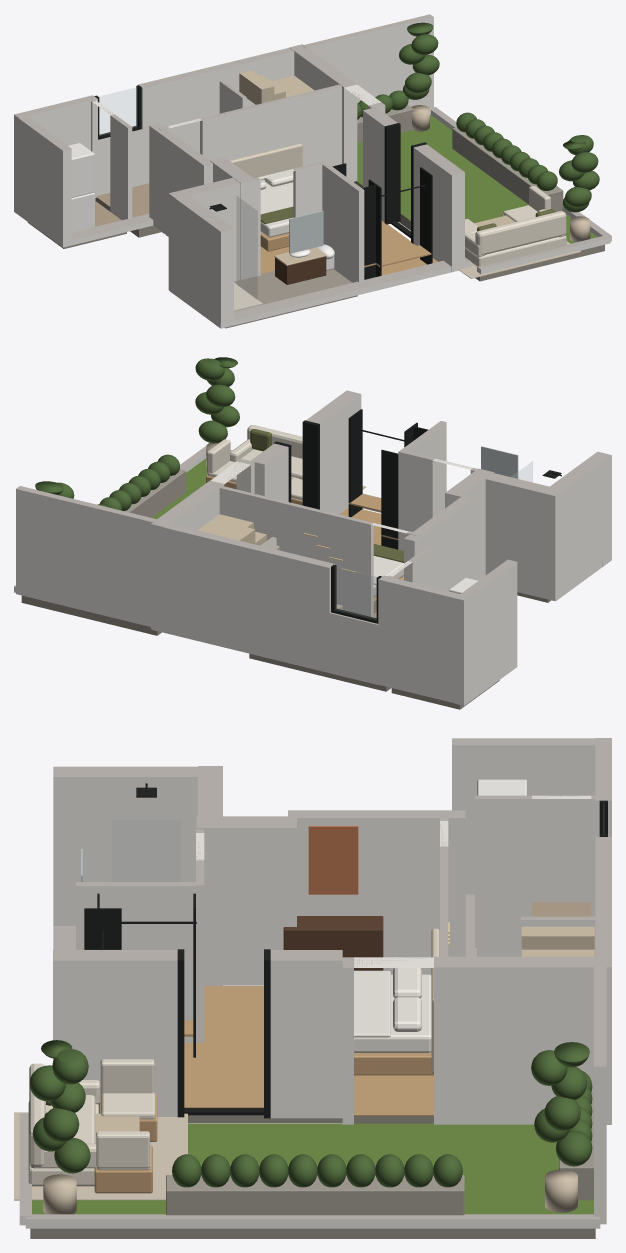
Rendered from apt-3-2.glb.
3 renders of one model, top to bottom at view 1: azimuth 30°, elevation 25°; view 2: azimuth 150°, elevation 25°; view 3: azimuth 270°, elevation 25°, orthographic. The views are drawn at different scales.
Parts seen in each view (by area): view 1: Wall master-N.001, Wall lo-N.001, Wall bathlo-W, Wall svc-W, Parapet 3, Floor | garden, Wall lo-E-S.001, Wall walkin-W, Wall master-W, Wall lo-S, Wall bathlo-NW, Wall lo-E-N (+47 smaller); view 2: Wall lo-N.001, Parapet 3, Wall lo-N, Wall master-N.001, Wall bathlo-NW, Wall svc-W, Wall bathlo-W, Wall master-W, Wall lo-E-S.001, lo-N window 0 | sill wall, Wall bathlo-N.001, Wall lo-E-N (+21 smaller); view 3: Wall lo-E-N, Floor | garden, Wall bathlo-W, Wall master-W, Wall svc-W, Wall lo-E-S.001, Wall master-SW, Wall lo-E-S, Floor | master, garden bamboo planter | box, Wall svc-E.001, Parapet 4 (+60 smaller).
Boxes of the visible parts, left/top/right/bottom form: Wall master-N.001: left=200, top=84, right=341, bottom=166; Wall lo-N.001: left=137, top=47, right=294, bottom=184; Wall bathlo-W: left=170, top=196, right=233, bottom=328; Wall svc-W: left=14, top=115, right=71, bottom=247; Parapet 3: left=303, top=14, right=433, bottom=114; Floor | garden: left=356, top=114, right=597, bottom=243; Wall lo-E-S.001: left=413, top=144, right=464, bottom=272; Wall walkin-W: left=322, top=163, right=364, bottom=282; Wall master-W: left=149, top=123, right=212, bottom=236; Wall lo-S: left=212, top=257, right=472, bottom=328; Wall bathlo-NW: left=168, top=177, right=240, bottom=295; Wall lo-E-N: left=289, top=44, right=357, bottom=181; Wall lo-N.001: left=152, top=524, right=334, bottom=672; Parapet 3: left=16, top=486, right=157, bottom=626; Wall lo-N: left=378, top=575, right=469, bottom=705; Wall master-N.001: left=219, top=486, right=373, bottom=617; Wall bathlo-NW: left=485, top=473, right=563, bottom=601; Wall svc-W: left=455, top=559, right=517, bottom=705; Wall bathlo-W: left=550, top=451, right=611, bottom=600; Wall master-W: left=404, top=495, right=473, bottom=591; Wall lo-E-S.001: left=306, top=390, right=361, bottom=514; lo-N window 0 | sill wall: left=329, top=612, right=378, bottom=684; Wall bathlo-N.001: left=398, top=450, right=435, bottom=550; Wall lo-E-N: left=150, top=480, right=224, bottom=629; Wall lo-E-N: left=434, top=956, right=611, bottom=1124; Floor | garden: left=32, top=1123, right=593, bottom=1214; Wall bathlo-W: left=53, top=766, right=197, bottom=925; Wall master-W: left=288, top=810, right=465, bottom=974; Wall svc-W: left=452, top=738, right=595, bottom=902; Wall lo-E-S.001: left=53, top=950, right=177, bottom=1116; Wall master-SW: left=196, top=816, right=296, bottom=985; Wall lo-E-S: left=270, top=950, right=342, bottom=1118; Floor | master: left=201, top=975, right=433, bottom=1115; garden bamboo planter | box: left=166, top=1175, right=464, bottom=1215; Wall svc-E.001: left=475, top=795, right=531, bottom=956; Parapet 4: left=25, top=1214, right=600, bottom=1228.
Bounding box in the file's own units: 9.48 × 2.32 × 7.21.
